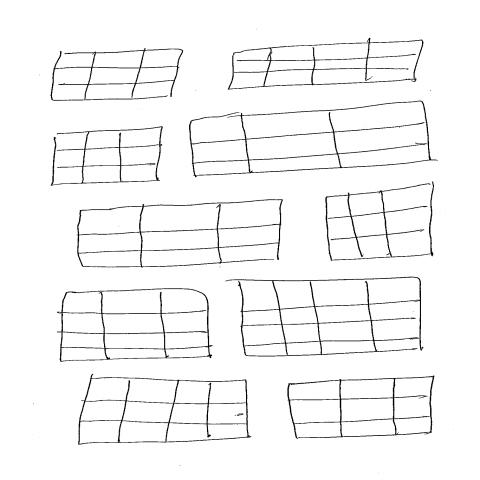Table: (189, 102, 434, 178), (234, 278, 425, 358), (76, 199, 284, 269), (78, 377, 251, 446), (59, 289, 213, 364), (227, 41, 425, 91), (288, 376, 437, 439), (324, 184, 437, 263), (50, 48, 184, 103), (48, 127, 165, 187)
